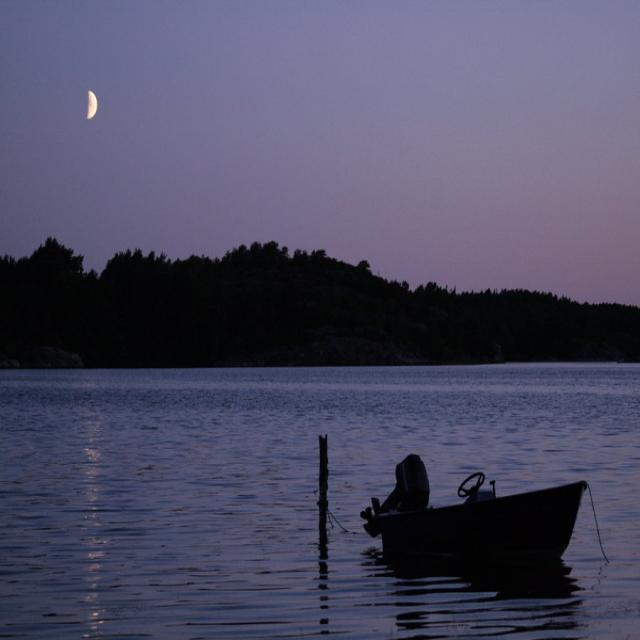Boat: (368, 447, 607, 584)
